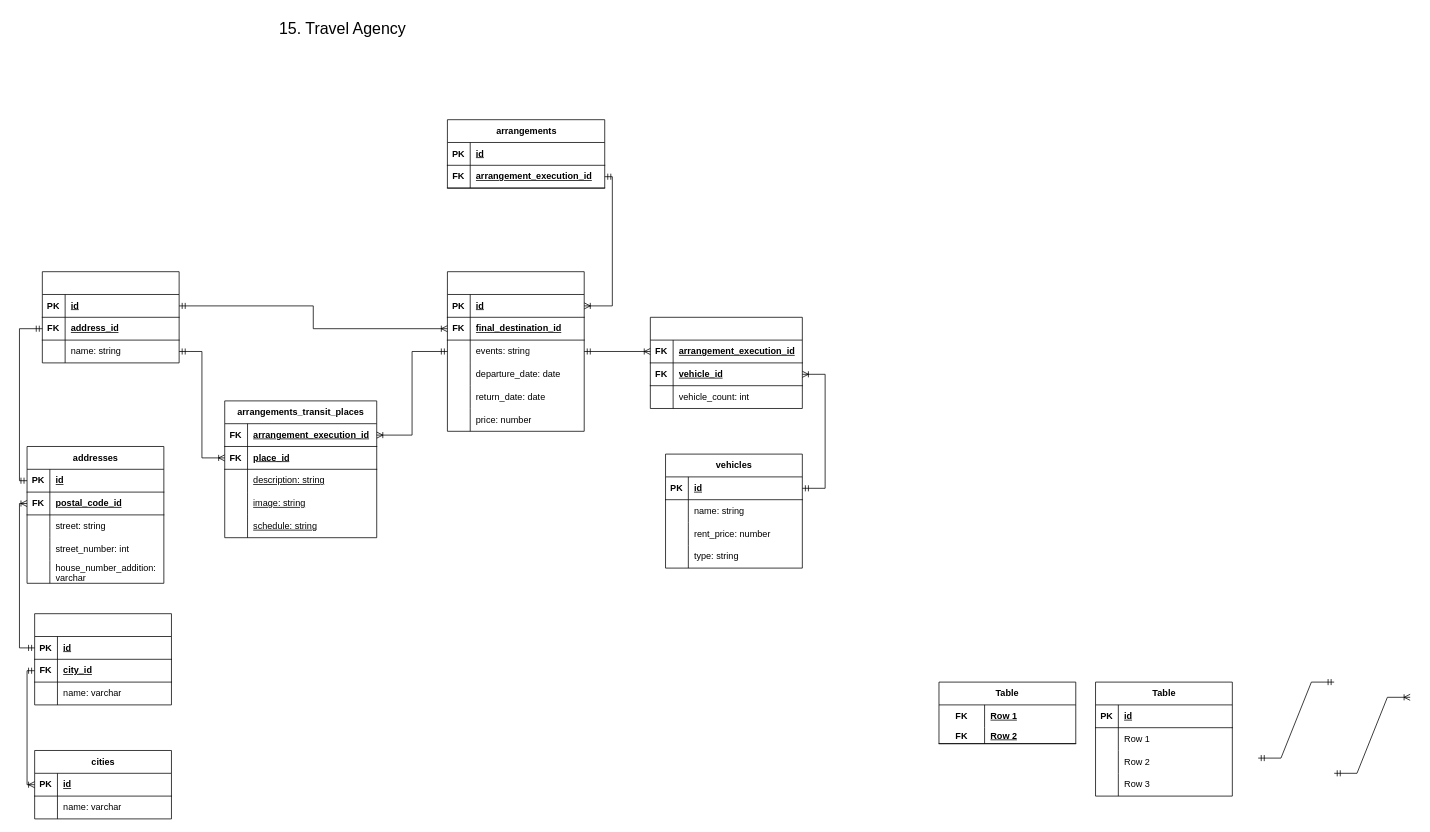
This 1430x832 diagram has some shape labels left out. The shapes that lost their labels are listed below. From the top down, each one's box as (x1, y1, x2, y2) in pixels, then its label:
(42, 271, 179, 363): places
(447, 271, 584, 431): arrangement_executions
(650, 317, 802, 408): arrangements_vehicles
(34, 613, 171, 705): postal_codes
